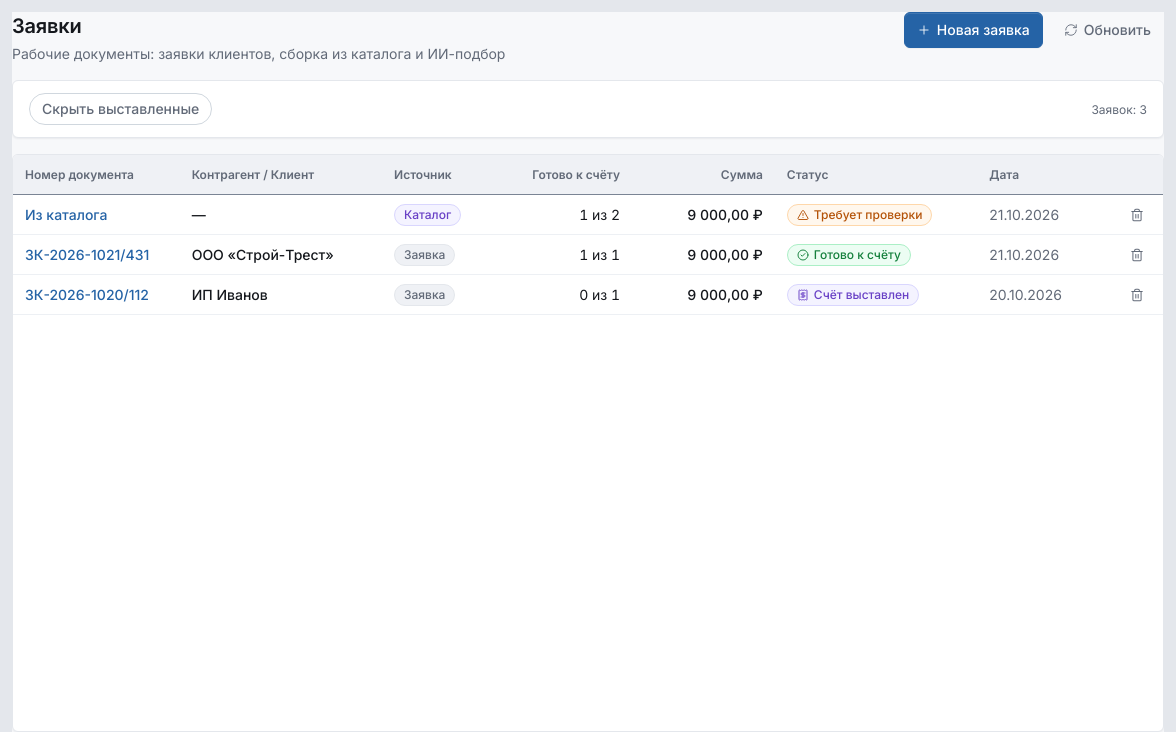
Список «Заявки» › скрывает выставленные документы по переключателю
Expected: the text "ИП Иванов" is shown, top-left (192, 286), bottom-right (268, 302)
Click the button "Скрыть выставленные".
click(121, 109)  # box top-left (29, 93), bottom-right (212, 125)
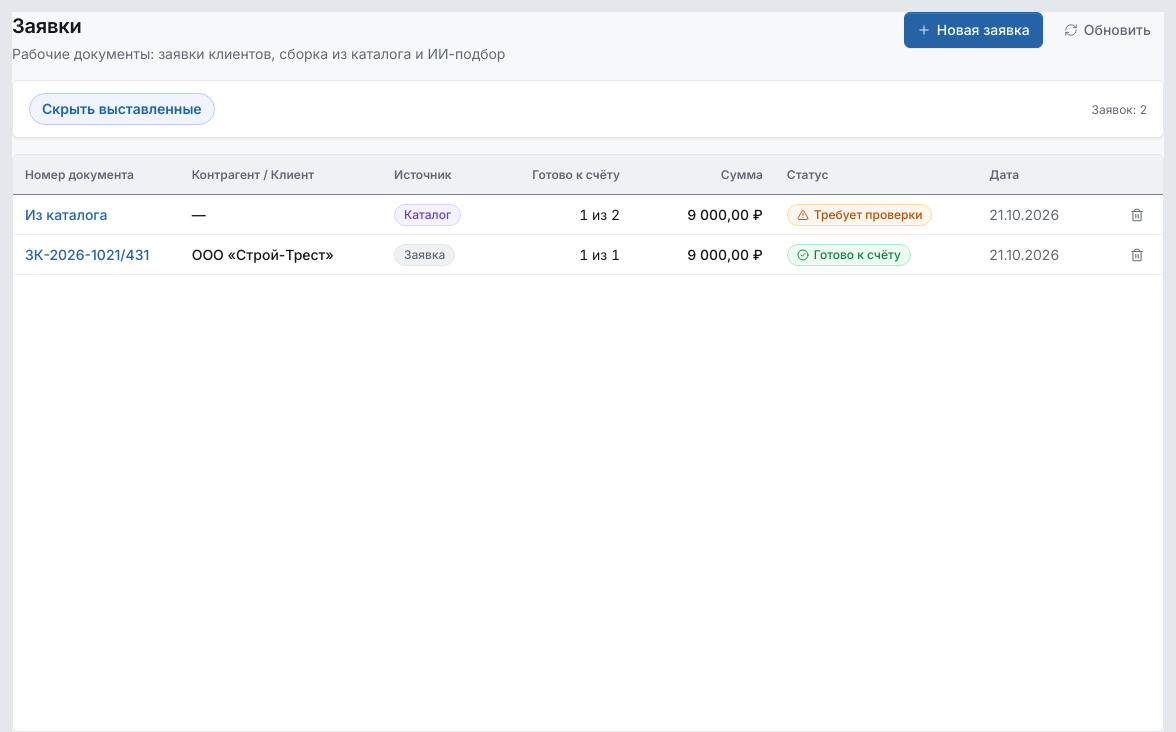
Expected: the text "ООО «Строй-Трест»" is shown, top-left (192, 246), bottom-right (334, 262)
Now the text "ИП Иванов" is gone
